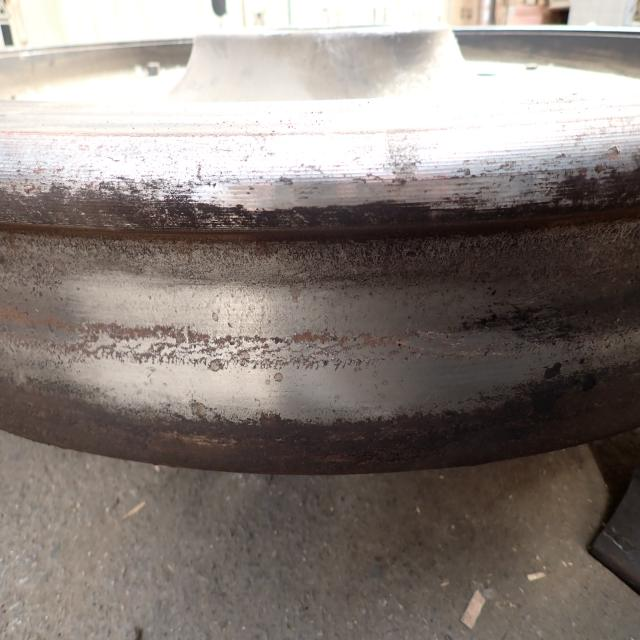Contact_Fatigue_Cracks: (71, 319, 389, 374), (393, 332, 510, 365)
